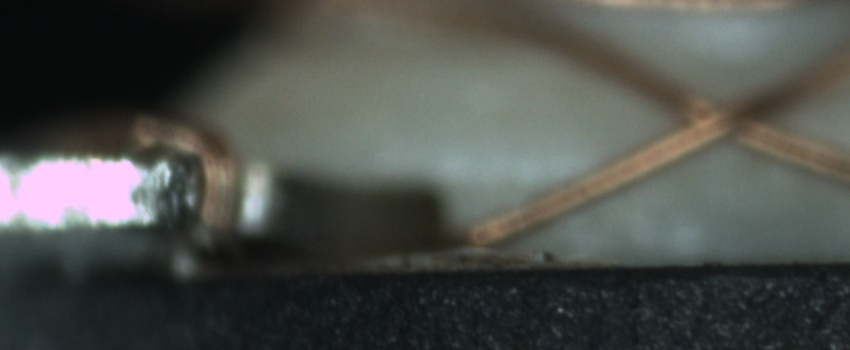CL: (651, 67, 802, 161)
DL: (446, 149, 595, 198)
TE: (109, 111, 245, 249)
